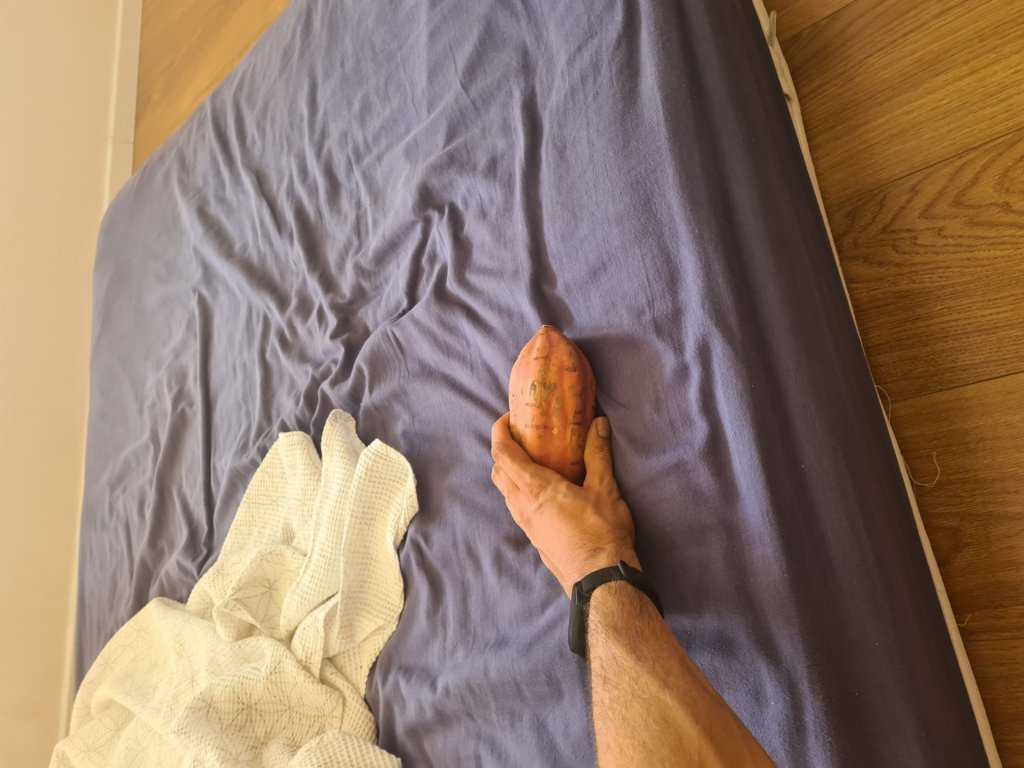Sweet Potatow: (502, 331, 594, 486)
